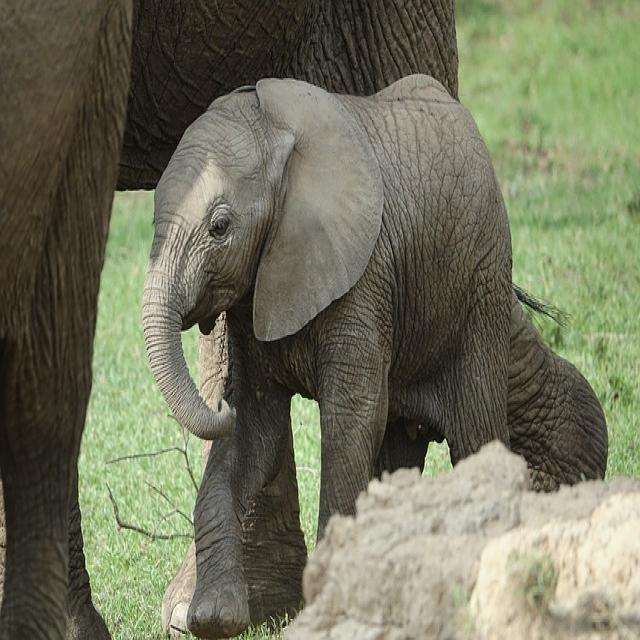elephant: (0, 0, 458, 638), (142, 75, 606, 637)
